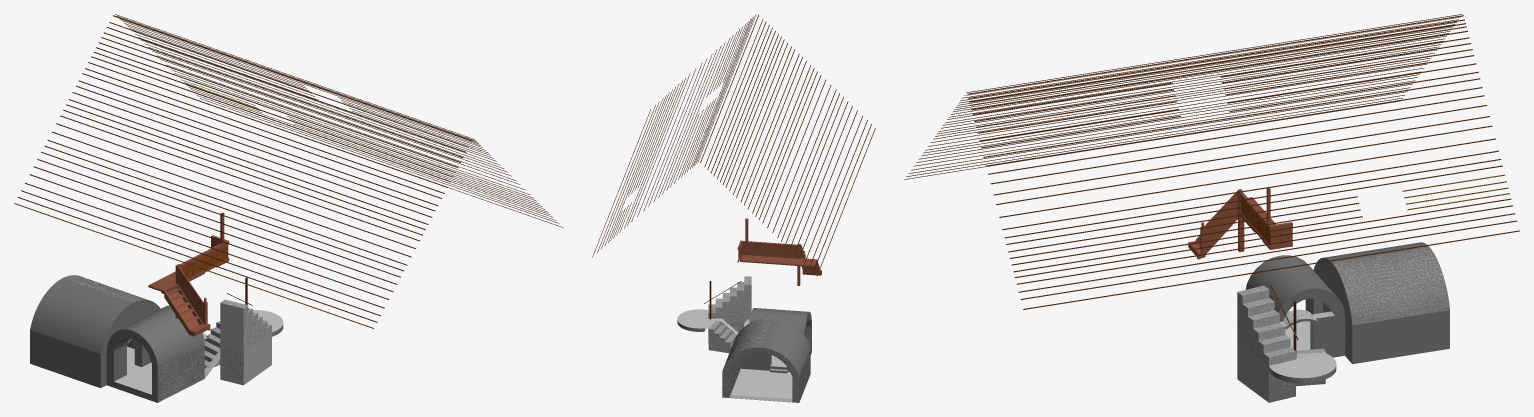
The model's file is sklep_vnitni_steny.dae.
3 renders of one model, left to right at view 1: azimuth 30°, elevation 25°; view 2: azimuth 150°, elevation 25°; view 3: azimuth 270°, elevation 25°, orthographic. The views are drawn at different scales.
Parts seen in each view (by area): view 1: group_71 (×6), group_32, schody_2 (×3), group_40, group_45, group_47, group_49, group_53, group_56, group_57, group_59, group_61 (+22 smaller); view 2: group_71 (×4), group_32, schody_2 (×2); view 3: group_71 (×7), schody_2, group_32, group_16, group_22, group_11, group_21, group_28, group_34, group_35, group_37, group_1 (+42 smaller).
Part boxes in pixels (bbox=[...]): group_71 (×6): bbox=[30, 275, 271, 402]; group_32: bbox=[148, 212, 229, 336]; schody_2 (×3): bbox=[204, 299, 271, 368]; group_40: bbox=[37, 159, 397, 284]; group_45: bbox=[29, 174, 389, 299]; group_47: bbox=[91, 56, 450, 182]; group_49: bbox=[60, 115, 419, 241]; group_53: bbox=[98, 42, 458, 167]; group_56: bbox=[47, 140, 407, 265]; group_57: bbox=[78, 80, 438, 206]; group_59: bbox=[76, 85, 435, 211]; group_61: bbox=[63, 109, 422, 235]; group_71 (×4): bbox=[677, 308, 811, 402]; group_32: bbox=[737, 218, 821, 285]; schody_2 (×2): bbox=[708, 276, 751, 353]; group_71 (×7): bbox=[1237, 242, 1449, 402]; schody_2: bbox=[1237, 285, 1295, 365]; group_32: bbox=[1188, 188, 1292, 259]; group_16: bbox=[967, 15, 1463, 94]; group_22: bbox=[988, 95, 1484, 174]; group_11: bbox=[983, 78, 1480, 157]; group_21: bbox=[1023, 230, 1519, 309]; group_28: bbox=[993, 116, 1489, 195]; group_34: bbox=[986, 87, 1482, 166]; group_35: bbox=[969, 23, 1465, 102]; group_37: bbox=[1020, 220, 1517, 299]; group_1: bbox=[970, 26, 1466, 105].
Bounding box in the file's own units: 743 × 907 × 565.
Materials: 11 (4 with a texture image).
